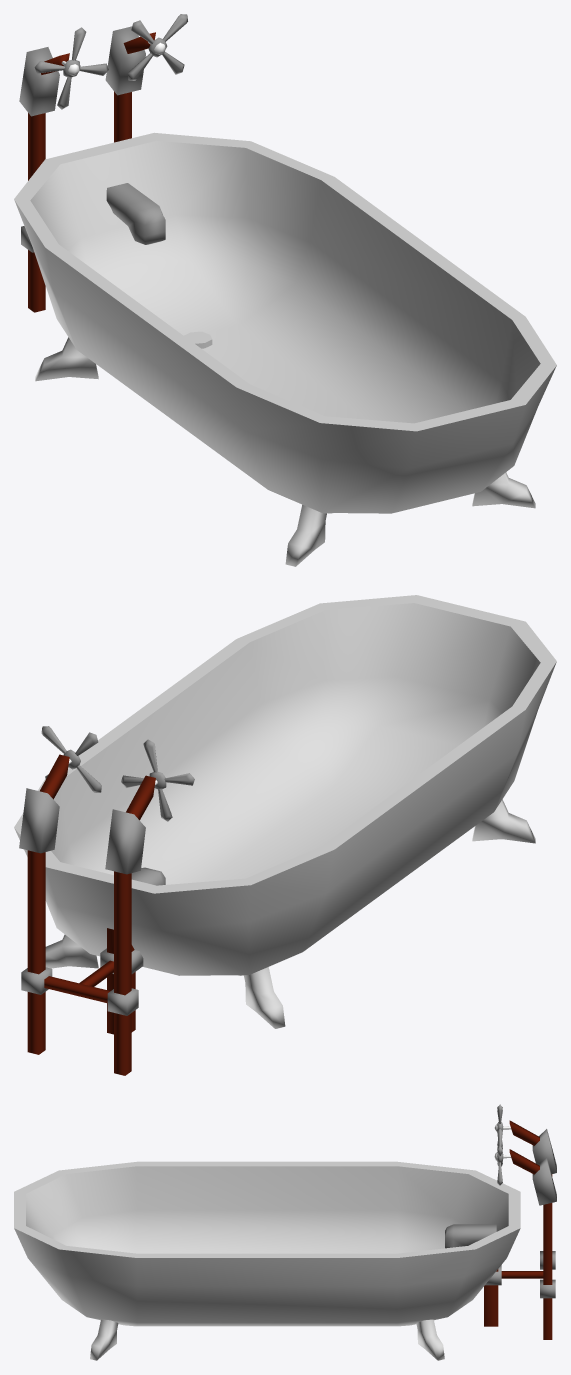
The model's file is House_Bathroom_BathTub.FBX.
The picture shows the model from 3 angles, top to bottom: view 1: azimuth 30°, elevation 25°; view 2: azimuth 150°, elevation 25°; view 3: azimuth 270°, elevation 25°; orthographic projection. The views are drawn at different scales.
Visible parts, largest first — view 1: House_BathRoom_BathTub_tub, House_BathRoom_BathTub_plumbing; view 2: House_BathRoom_BathTub_tub, House_BathRoom_BathTub_plumbing; view 3: House_BathRoom_BathTub_tub, House_BathRoom_BathTub_plumbing.
Part boxes in pixels (x1,y1,x2,y2): House_BathRoom_BathTub_tub: [14, 132, 556, 566]; House_BathRoom_BathTub_plumbing: [19, 14, 187, 312]; House_BathRoom_BathTub_tub: [14, 595, 556, 1028]; House_BathRoom_BathTub_plumbing: [19, 726, 194, 1075]; House_BathRoom_BathTub_tub: [14, 1161, 520, 1360]; House_BathRoom_BathTub_plumbing: [484, 1104, 556, 1339].
Size of the model in its own units: 132 by 133 by 315.
